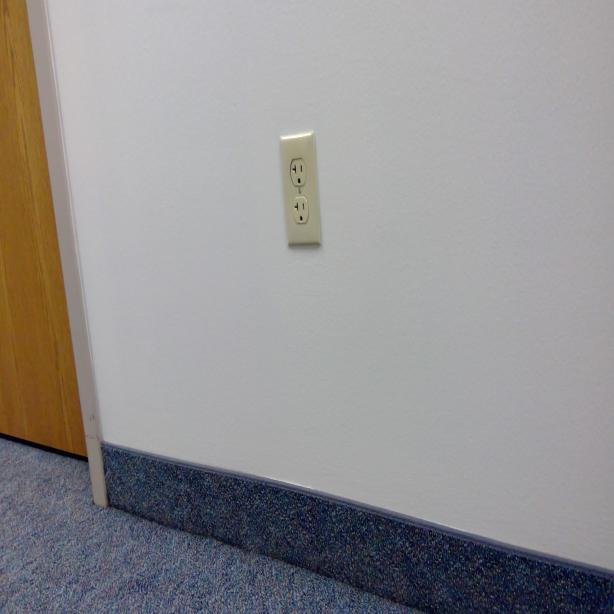typeb: (290, 158, 307, 187)
